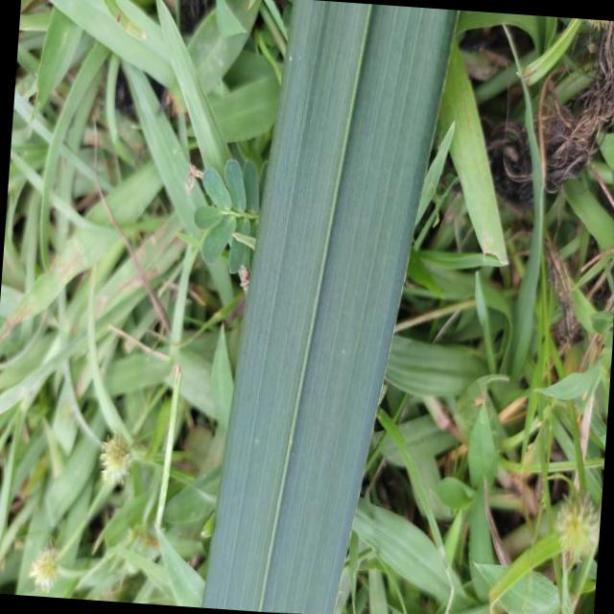Healthy: (205, 0, 457, 614)
